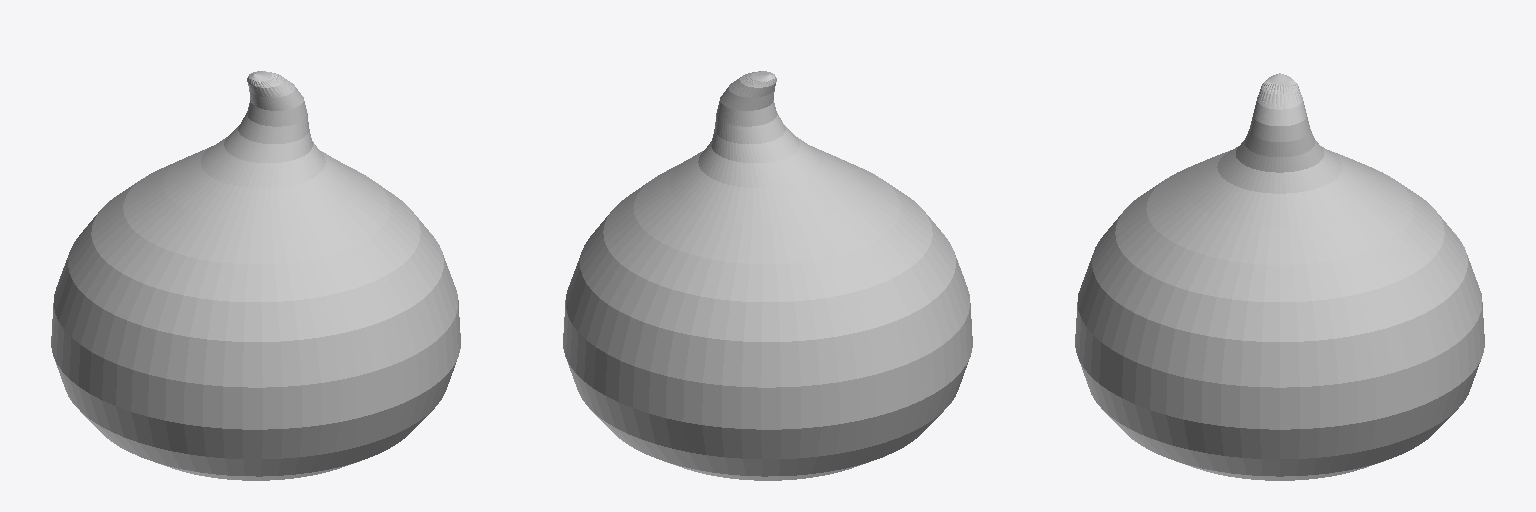
File: slime.obj
The picture shows the model from 3 angles: view 1: azimuth 30°, elevation 25°; view 2: azimuth 150°, elevation 25°; view 3: azimuth 270°, elevation 25°; orthographic projection.
Visible parts, largest first — view 1: Circle; view 2: Circle; view 3: Circle.
Part boxes in pixels (x1,y1,x2,y2): Circle: (51,71,460,480); Circle: (563,71,972,480); Circle: (1075,73,1484,480).
Size of the model in its own units: 1.65 by 1.62 by 1.65.